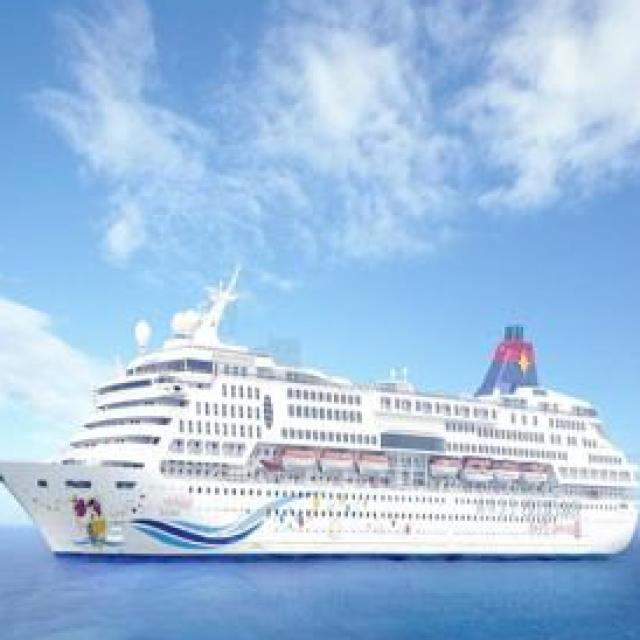passenger ship: (0, 285, 640, 577)
